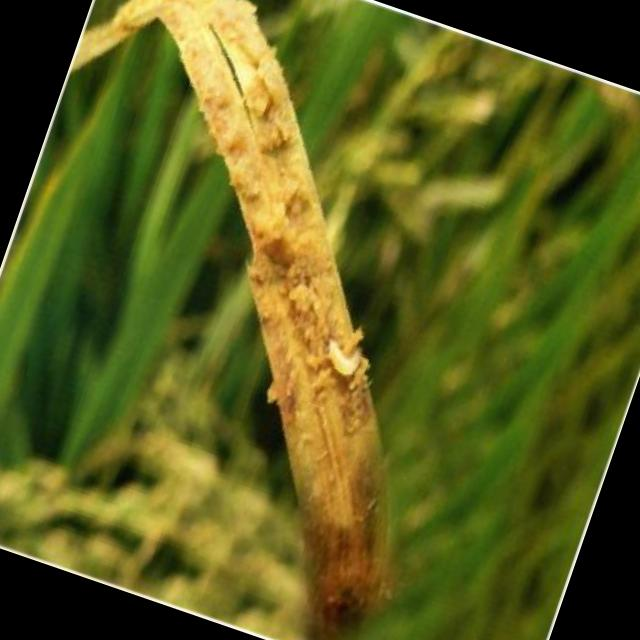whorl-maggot: (306, 328, 376, 392)
